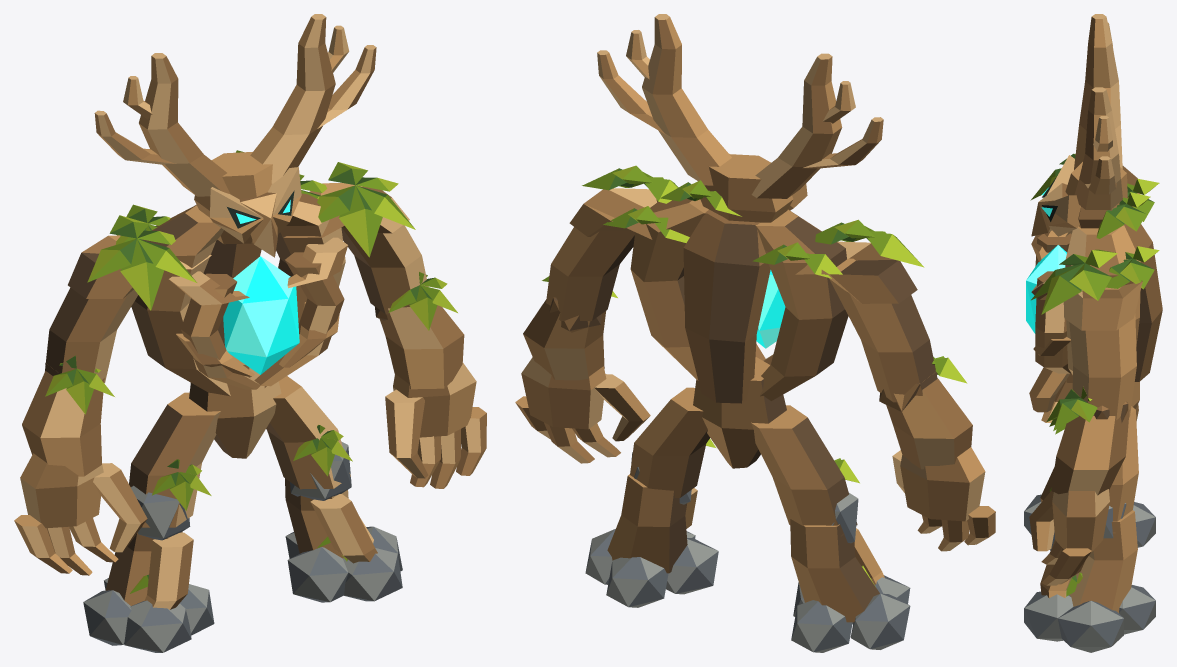
Rendered from tide-root-colossus-wip.glb.
3 renders of one model, left to right at view 1: azimuth 30°, elevation 25°; view 2: azimuth 150°, elevation 25°; view 3: azimuth 270°, elevation 25°, orthographic. The views are drawn at different scales.
Visible parts, largest first — view 1: Chest side -1, Faceted turquoise heart, Crown main 1, Thigh -1, Forearm -1, Crown main -1, Forearm 1, Upper arm -1, Thigh 1, Palm -1, Upper arm 1, Pelvic root keel (+43 smaller); view 2: Rear trunk spine, Chest side -1, Thigh -1, Chest side 1, Upper arm -1, Crown main 1, Shin -1, Thigh 1, Upper arm 1, Crown main -1, Shin 1, Forearm -1 (+25 smaller); view 3: Upper arm 1, Forearm 1, Shin 1, Crown main -1, Palm 1, Crown main 1, Shoulder 1, Foot boulder 1 2, Rear trunk spine, Chest side 1, Heart frame 1, Thigh 1 (+36 smaller).
Part boxes in pixels (x1,y1,x2,y2): Chest side -1: [131, 205, 230, 396]; Faceted turquoise heart: [223, 256, 299, 374]; Crown main 1: [250, 14, 335, 183]; Thigh -1: [129, 392, 220, 527]; Forearm -1: [22, 371, 104, 476]; Crown main -1: [139, 53, 230, 196]; Forearm 1: [379, 305, 464, 389]; Upper arm -1: [45, 287, 137, 382]; Thigh 1: [266, 376, 350, 489]; Palm -1: [20, 453, 103, 528]; Upper arm 1: [341, 225, 428, 314]; Pelvic root keel: [189, 354, 281, 458]; Rear trunk spine: [683, 209, 770, 403]; Chest side -1: [755, 209, 848, 400]; Thigh -1: [751, 405, 857, 536]; Chest side 1: [630, 198, 708, 380]; Upper arm -1: [829, 258, 937, 402]; Crown main 1: [642, 14, 731, 185]; Shin -1: [790, 519, 879, 622]; Thigh 1: [630, 387, 709, 497]; Upper arm 1: [546, 227, 635, 320]; Crown main -1: [751, 53, 842, 198]; Shin 1: [607, 474, 687, 573]; Forearm -1: [886, 378, 972, 469]; Upper arm 1: [1069, 287, 1136, 419]; Forearm 1: [1051, 409, 1129, 495]; Shin 1: [1069, 510, 1137, 612]; Crown main -1: [1074, 14, 1122, 169]; Palm 1: [1052, 489, 1109, 552]; Crown main 1: [1074, 87, 1122, 209]; Shoulder 1: [1063, 280, 1142, 330]; Foot boulder 1 2: [1058, 600, 1123, 652]; Rear trunk spine: [1124, 224, 1162, 381]; Chest side 1: [1065, 225, 1140, 374]; Heart frame 1: [1035, 271, 1070, 373]; Thigh 1: [1109, 406, 1138, 533].
Bounding box in the file's own units: 5.06 × 5.98 × 1.39.
